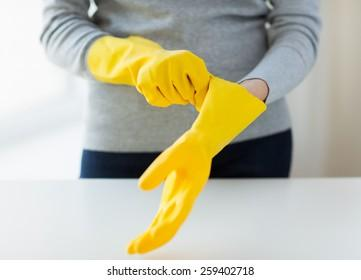gloves: (127, 77, 267, 253), (88, 35, 209, 112)
